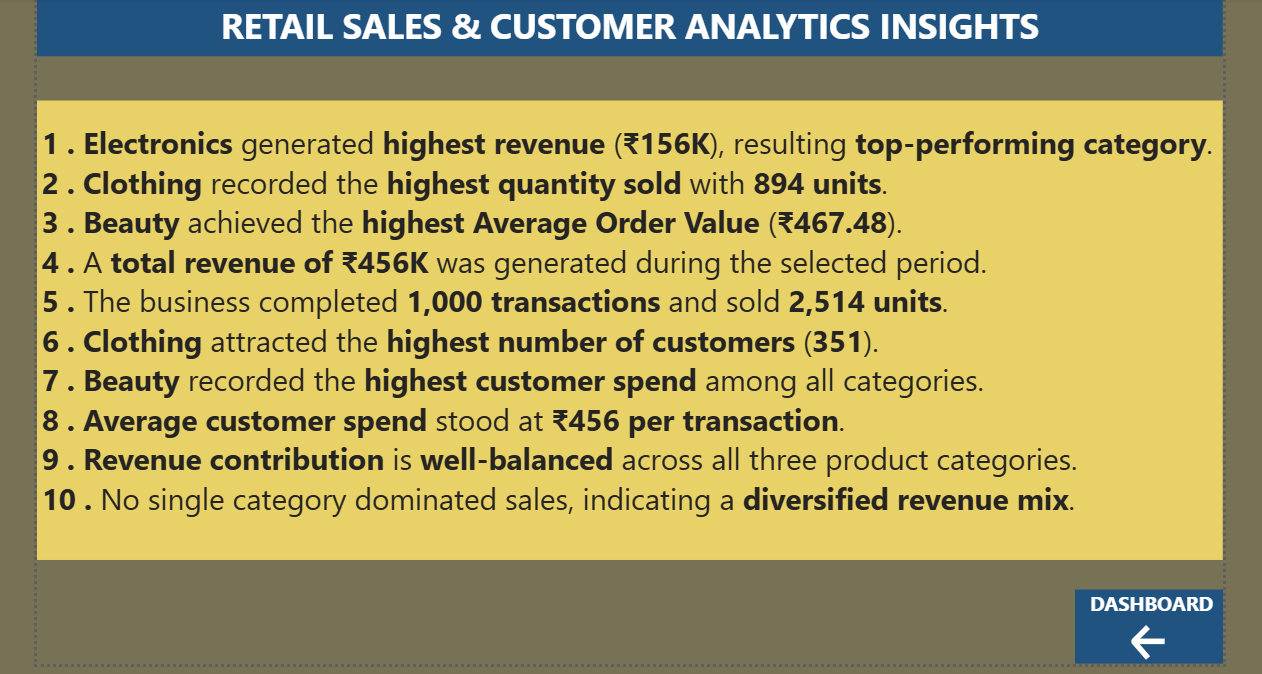

Layout of this report page (visuals, bound fields, positions):
{"tool":"powerbi","page":{"name":"INSIGHTS","canvas":[1280,720],"ordinal":1},"visuals":[{"type":"textbox","box":[0,0,1280,64],"z":0},{"type":"textbox","box":[1120,640,160,80],"z":1},{"type":"actionButton","title":"DASHBOARD","box":[1136,640,144,80],"z":2},{"type":"textbox","box":[0,112,1280,496],"z":3}]}

Visuals, with their boxes on the page's 1280x720 design canvas (x1, y1, x2, y2). These are canvas units, not pixel positions in the 1262x674 screenshot, which may show the page scaled, cropped or inside an application window:
textbox: bbox(0, 0, 1280, 64)
textbox: bbox(1120, 640, 1280, 720)
"DASHBOARD" actionButton: bbox(1136, 640, 1280, 720)
textbox: bbox(0, 112, 1280, 608)
